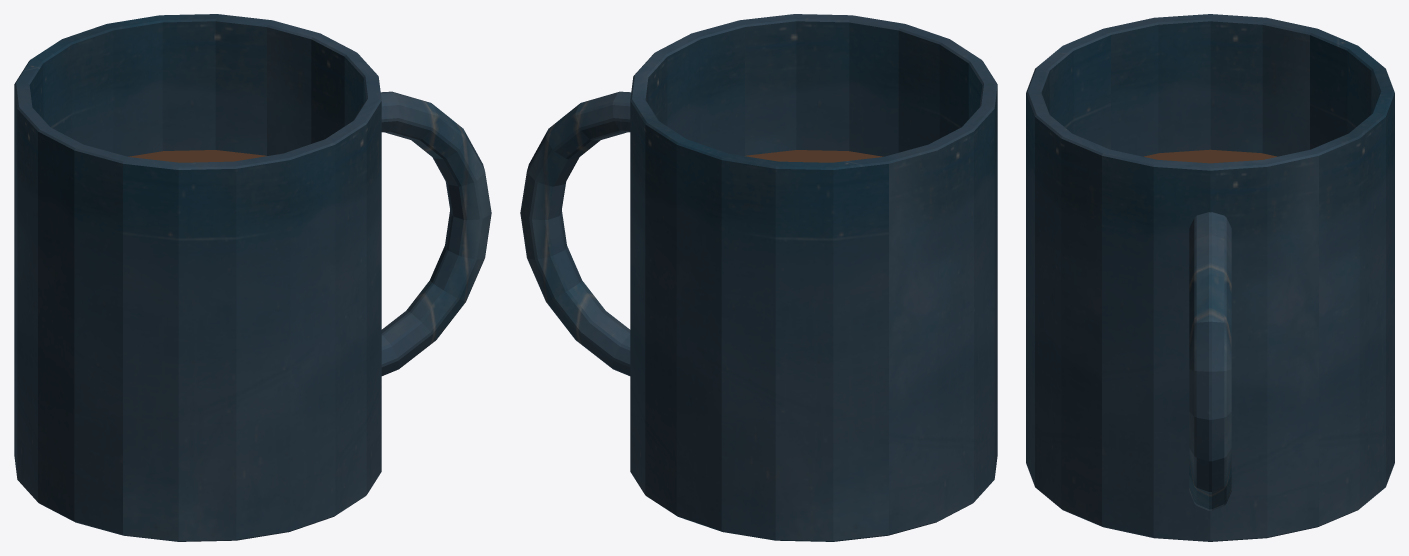
The model's file is mug_classic.glb.
3 renders of one model, left to right at view 1: azimuth 30°, elevation 25°; view 2: azimuth 150°, elevation 25°; view 3: azimuth 270°, elevation 25°, orthographic.
Visible parts, largest first — view 1: Mug_Classic; view 2: Mug_Classic; view 3: Mug_Classic.
Part boxes in pixels (x1,y1,x2,y2): Mug_Classic: (14,14,491,541); Mug_Classic: (520,14,997,541); Mug_Classic: (1026,14,1394,541).
Bounding box in the file's own units: 0.1438 × 0.114 × 0.102.
2 materials, 1 textured.
